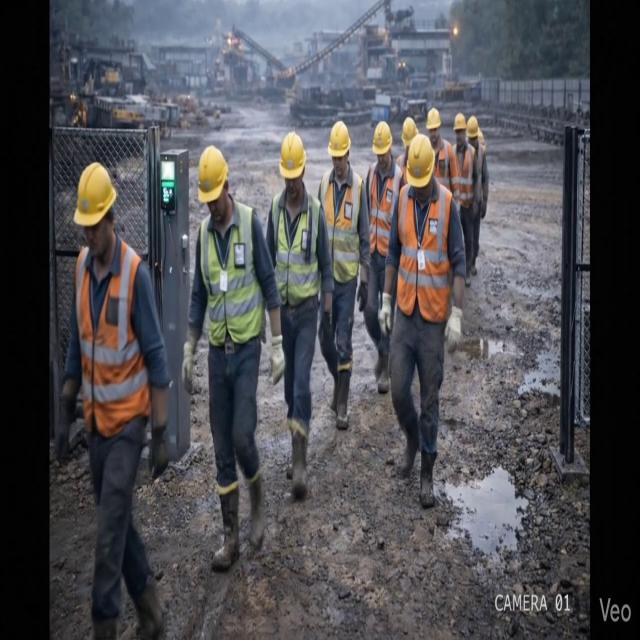Vest: (75, 240, 149, 437), (200, 202, 263, 346), (397, 185, 452, 322), (271, 193, 320, 306), (319, 170, 362, 283), (368, 162, 401, 256), (434, 139, 458, 201), (458, 144, 475, 208)
Worker: (56, 163, 169, 639), (182, 146, 284, 571), (379, 135, 465, 508), (267, 133, 333, 499), (318, 121, 369, 430), (364, 121, 404, 393), (454, 113, 480, 286), (467, 116, 488, 275), (426, 108, 458, 204), (397, 117, 417, 179)
helmet: (74, 163, 116, 226), (198, 145, 227, 203), (406, 134, 434, 188), (280, 132, 305, 179), (328, 121, 350, 157), (372, 121, 392, 155), (402, 117, 417, 147), (426, 108, 440, 130), (467, 116, 478, 139), (454, 113, 466, 131), (478, 129, 484, 143)
